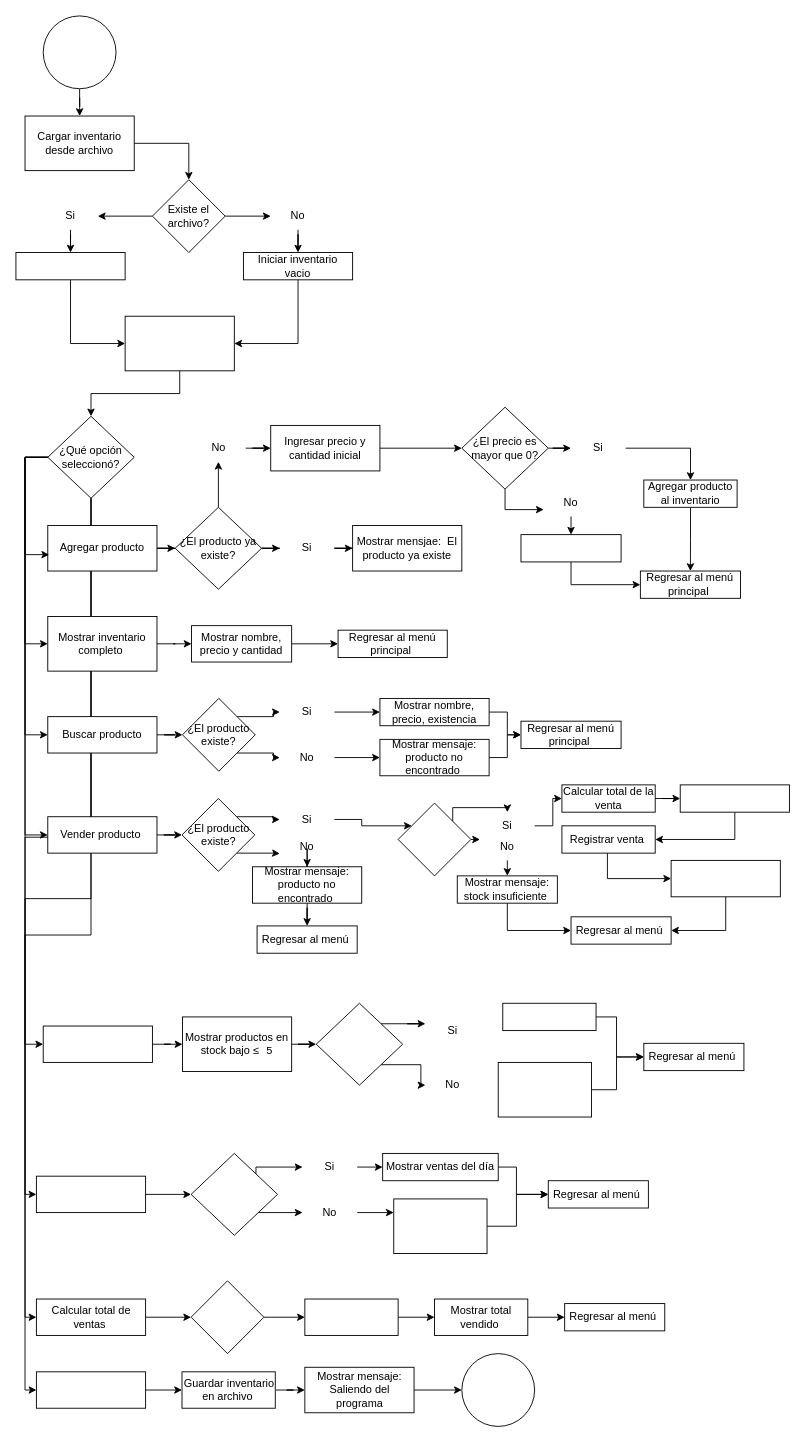
Some shapes in this 805 by 1442 pixel diagram are drawn without their labels. The centre of each missing label's shape, as x and y in pixels:
Cargar inventario guardado: the point at 70,266
Consultar registro de ventas: the point at 90,1194
Descontar cantidad del inventario: the point at 734,798
Fin: the point at 498,1389
INICIO: the point at 79,52
Mostrar confirmación de venta: the point at 725,878
Mostrar mensaje: no hay productos en stock bajo: the point at 544,1089
Mostrar mensaje: no hay ventas registradas: the point at 440,1226
Mostrar mensaje: precio inválido: the point at 570,548
Mostrar menú principal: the point at 179,343
Mostrar productos en stock bajo: the point at 549,1016
Mostrar total de todas las ventas: the point at 351,1316
Salir: the point at 90,1389
Stock bajo: the point at 97,1043
Sumar total de ventas: the point at 227,1317
¿Hay productos en stock bajo?: the point at 359,1043
¿Hay suficiente stock?: the point at 434,839
¿Hay ventas registradas?: the point at 234,1194
